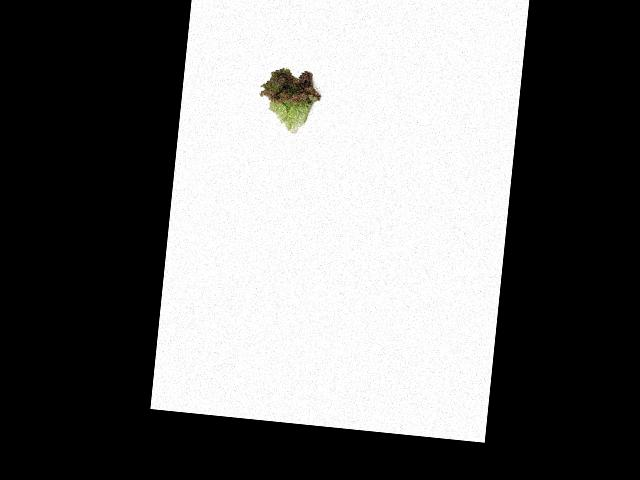lettuce: (253, 57, 329, 138)
